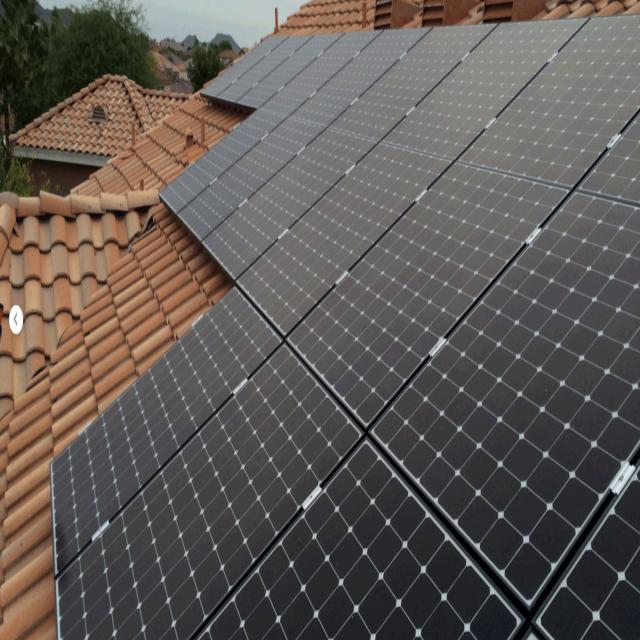clean-solar-panel: (51, 18, 640, 638)
